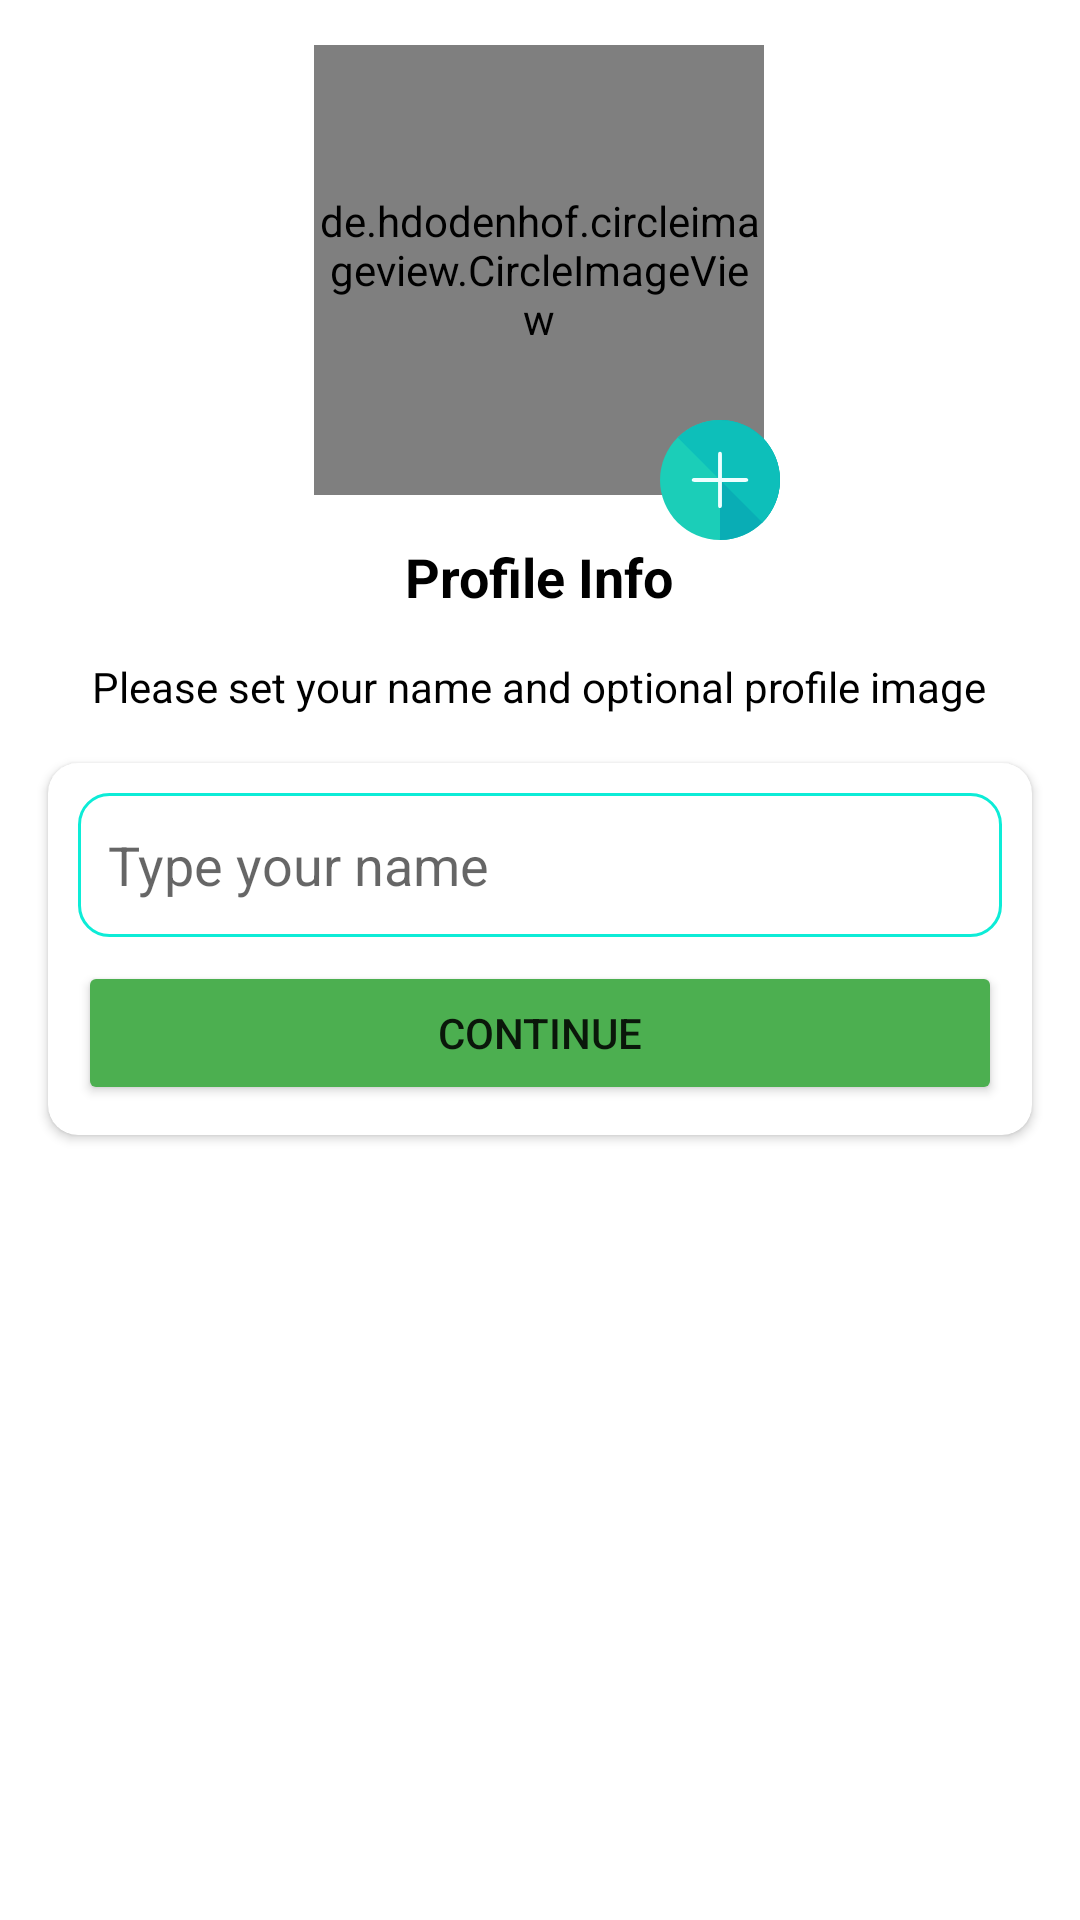

Point at icon controls on the screen. Image size 1080px x 1920px, points as (x=x, y=y).
add: (x=716, y=480)
